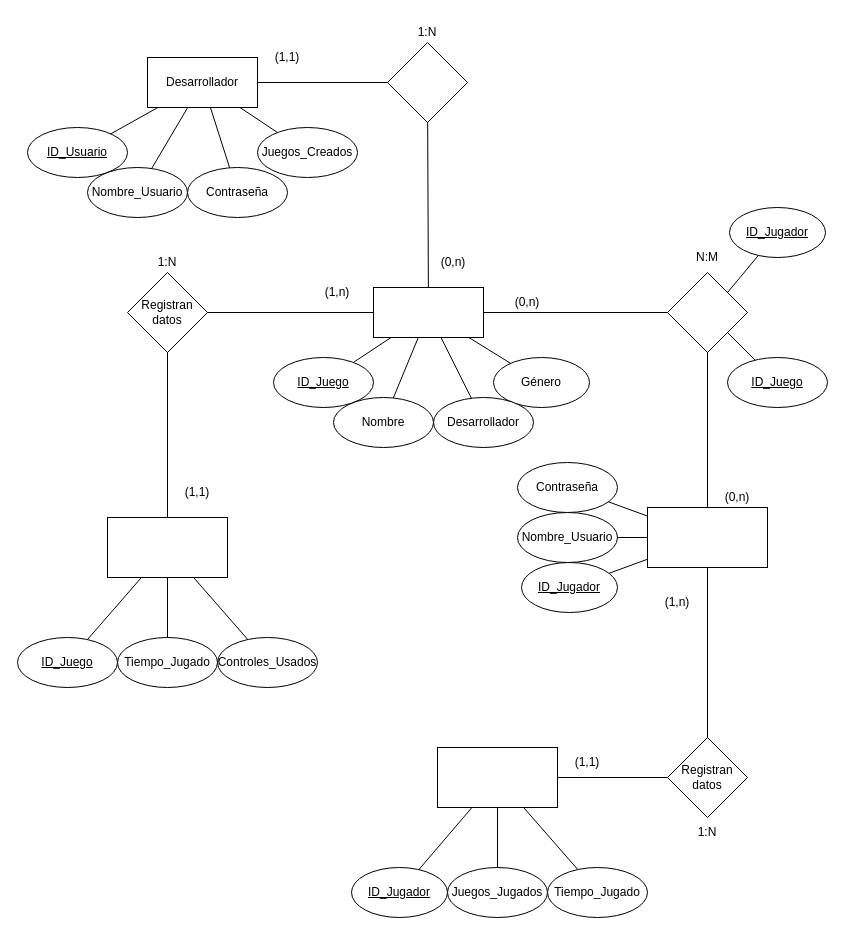
Some shapes in this 845 by 935 pixel diagram are drawn without their labels. The shapes that lost their labels are listed below. From the top down, each one's centre as x and y in pixels, then its label:
(427,82): Da de alta
(428,312): Juegos
(707,312): Juega
(167,547): Estadisticas_Juego
(707,537): Jugador
(497,777): Estadisticas_Jugador
